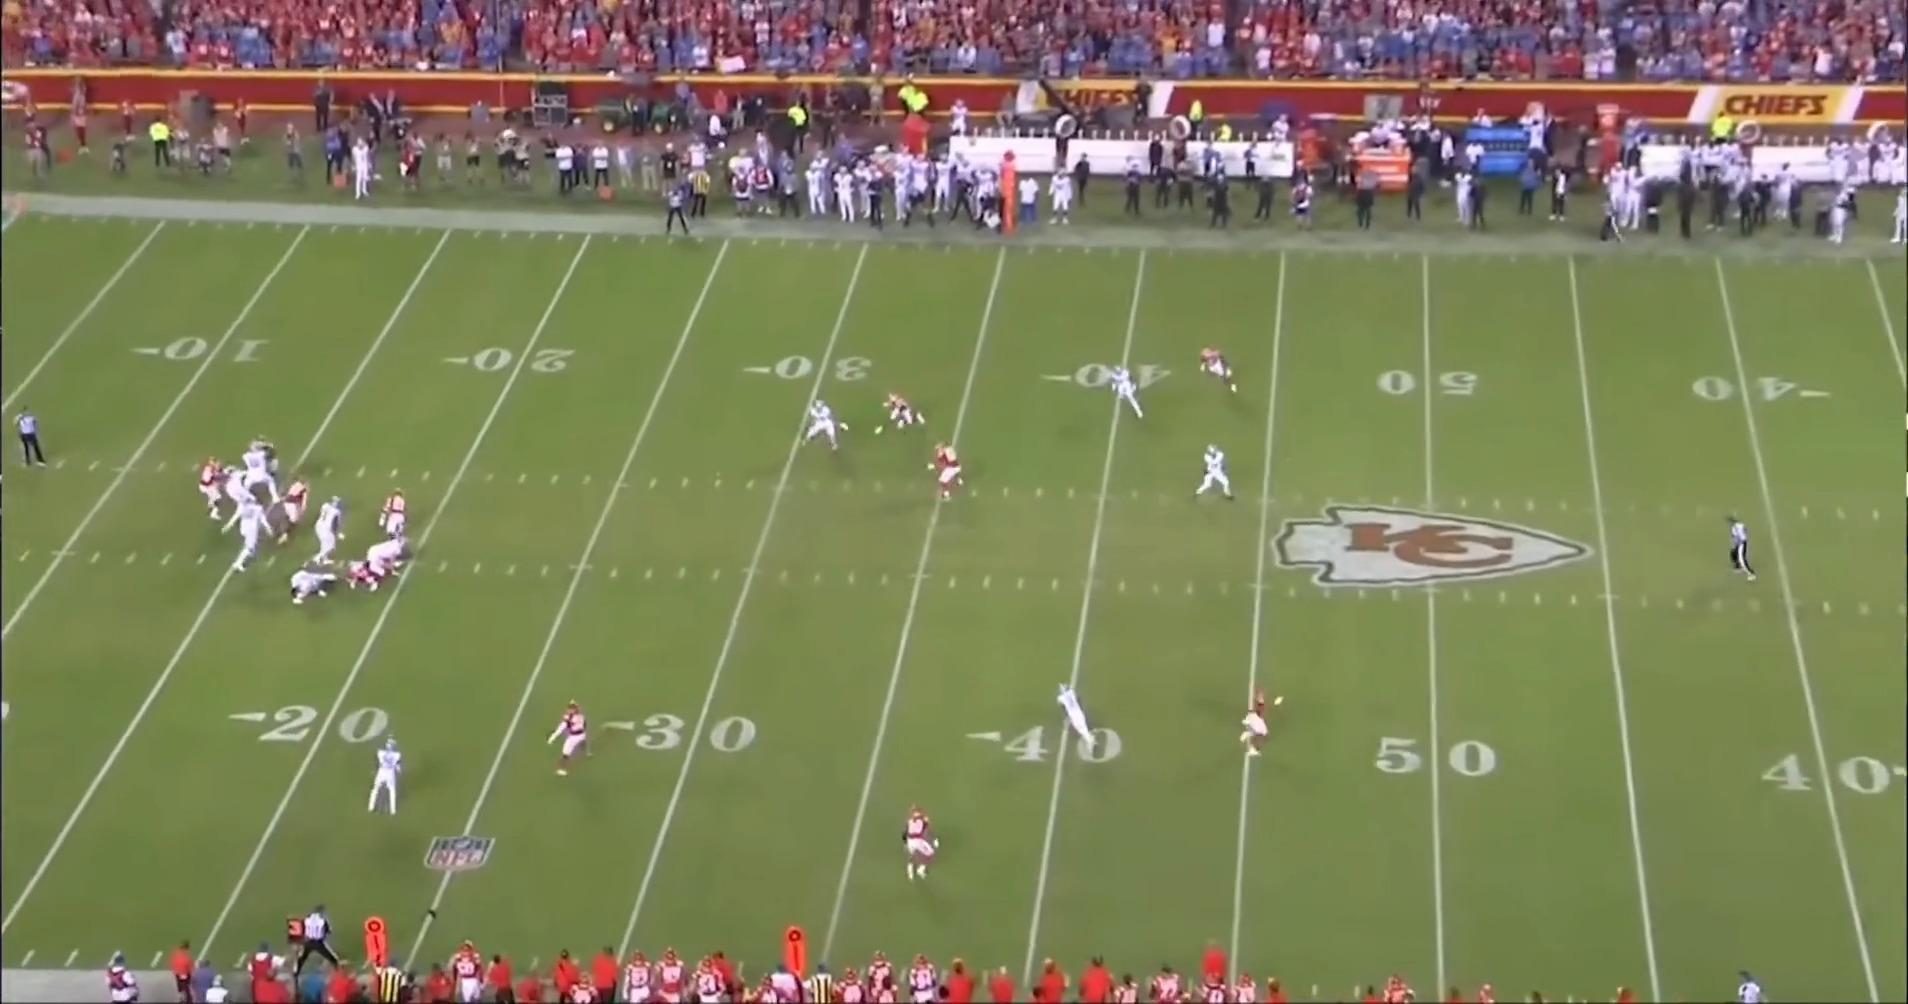player: (370, 735, 413, 819), (900, 802, 943, 886), (1231, 686, 1281, 758), (540, 698, 585, 777), (1049, 683, 1097, 754), (231, 499, 270, 574), (875, 389, 932, 439), (1192, 444, 1239, 504), (283, 561, 344, 606), (311, 495, 348, 568), (804, 394, 850, 450), (271, 480, 307, 550), (925, 438, 964, 502), (1195, 346, 1241, 399), (1110, 364, 1149, 424), (362, 533, 406, 586), (242, 450, 285, 503), (376, 490, 411, 549), (198, 456, 228, 522), (214, 462, 258, 503), (332, 559, 383, 594), (248, 438, 277, 478)
ref: (292, 902, 338, 976), (1714, 518, 1753, 590), (19, 406, 51, 472), (658, 178, 692, 238)
